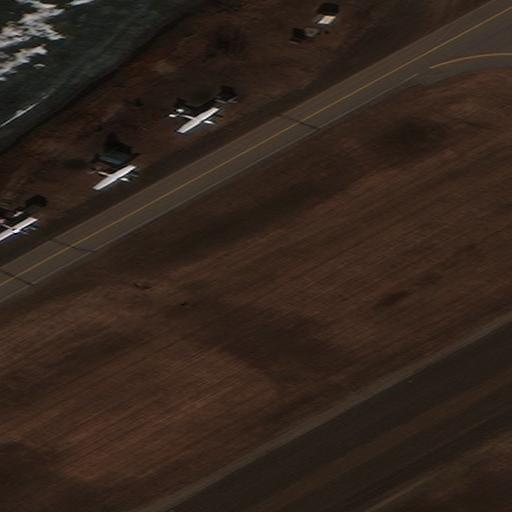Small Civil Transport: (171, 107, 220, 133), (91, 166, 138, 191), (0, 219, 38, 243)
